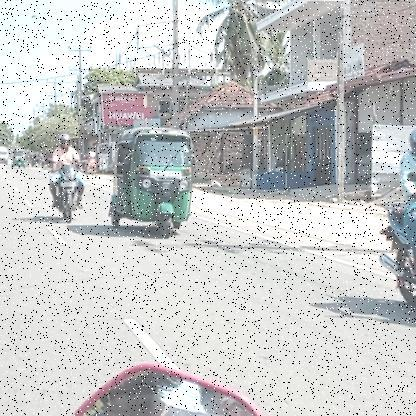motorcycle: (370, 188, 416, 340), (44, 162, 92, 228)
